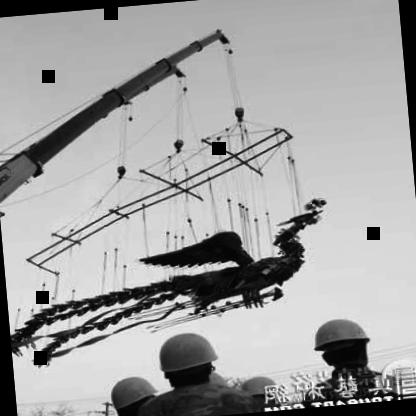helmet: (148, 322, 229, 396), (306, 307, 381, 376), (102, 365, 172, 416), (236, 369, 283, 410)
